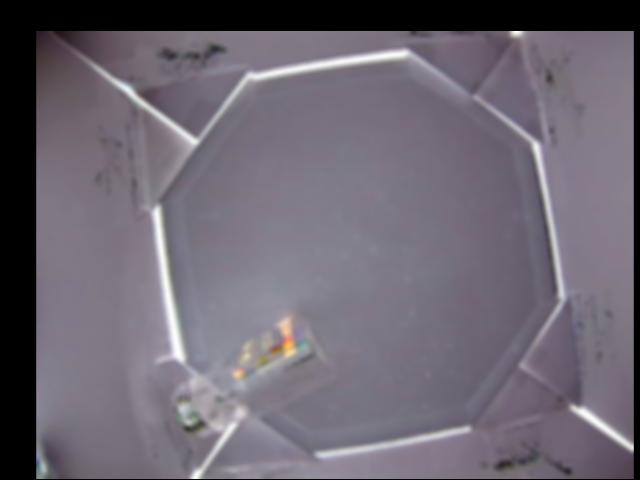Bottle: (170, 311, 336, 440)
